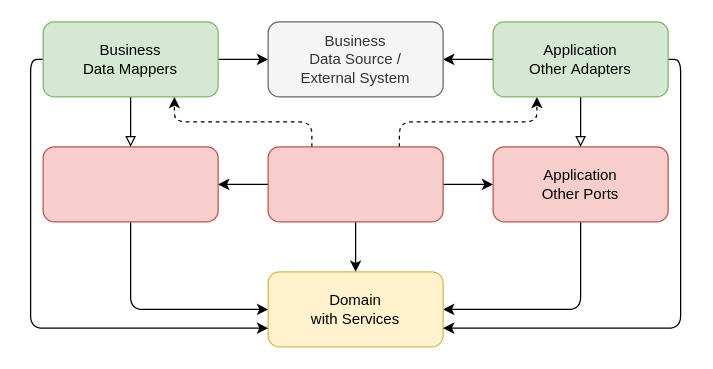
The diagram is 713 pixels wide and 369 high, and some of its shapes have lost their labels. Here are the shapes that lost their labels. From the top down, the box of each, then its label:
(42, 146, 218, 222): Business Data Gateways
(267, 146, 443, 222): Application Interactors / Services
